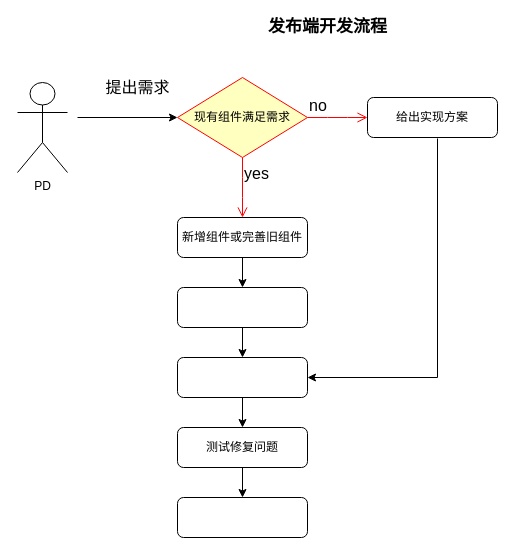
Image size: 515x555. Some labels were removed from this diagram. The centre of each missing label's shape, as x and y in pixels:
"CR上线总结文档" goes at (x=242, y=517).
"约定组件schema及相应的技术方案" goes at (x=242, y=307).
"编写代码联调" goes at (x=242, y=377).
